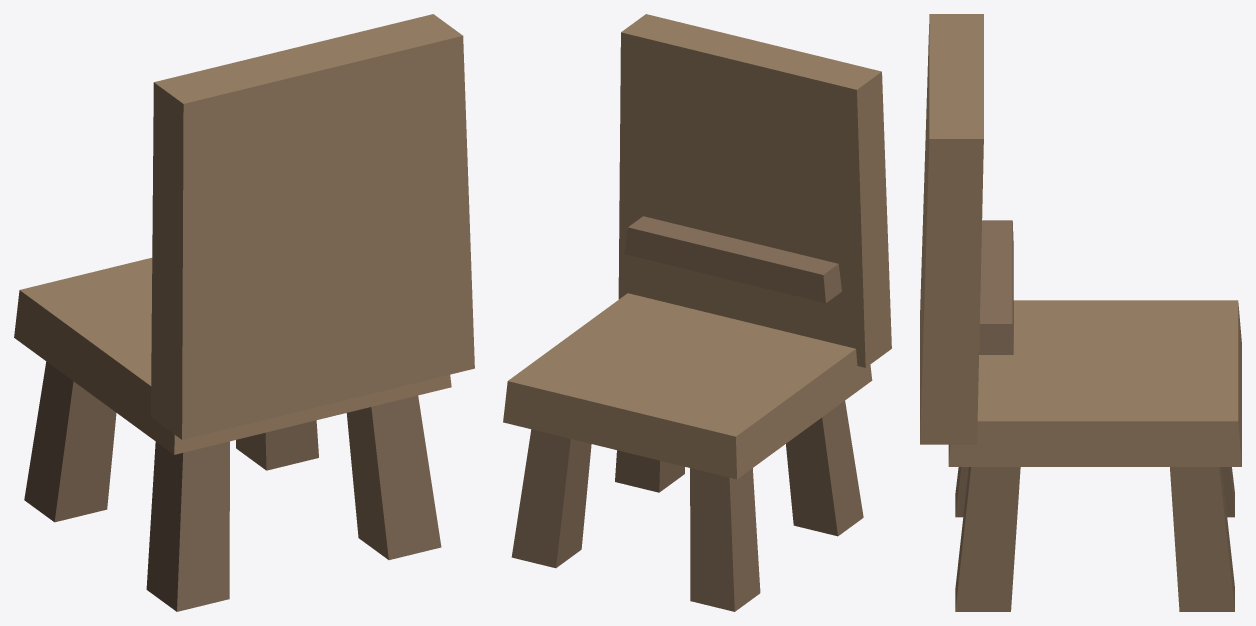
File: chair_simple.glb
3 views of the same model, side by side, from view 1: azimuth 30°, elevation 25°; view 2: azimuth 150°, elevation 25°; view 3: azimuth 270°, elevation 25° (orthographic). The views are drawn at different scales.
Visible parts, largest first — view 1: part_5, part_4, part_1, part_3, part_0, part_2; view 2: part_5, part_4, part_6, part_0, part_2, part_1, part_3; view 3: part_4, part_5, part_3, part_2, part_6, part_1, part_0.
Boxes of the visible parts, <box> form: part_5: <box>151,14,474,439</box>; part_4: <box>14,257,451,454</box>; part_1: <box>146,441,229,611</box>; part_3: <box>346,395,441,559</box>; part_0: <box>24,361,116,522</box>; part_2: <box>236,420,318,470</box>; part_5: <box>618,14,891,367</box>; part_4: <box>503,293,872,479</box>; part_6: <box>624,216,841,303</box>; part_0: <box>690,468,760,611</box>; part_2: <box>511,429,591,568</box>; part_1: <box>786,401,863,536</box>; part_3: <box>615,450,684,492</box>; part_4: <box>948,300,1241,466</box>; part_5: <box>920,14,983,444</box>; part_3: <box>955,467,1020,611</box>; part_2: <box>1170,467,1234,611</box>; part_6: <box>979,220,1013,354</box>; part_1: <box>955,467,968,517</box>; part_0: <box>1221,467,1234,517</box>.
Bounding box in the file's own units: 0.76 × 1.29 × 0.79.
